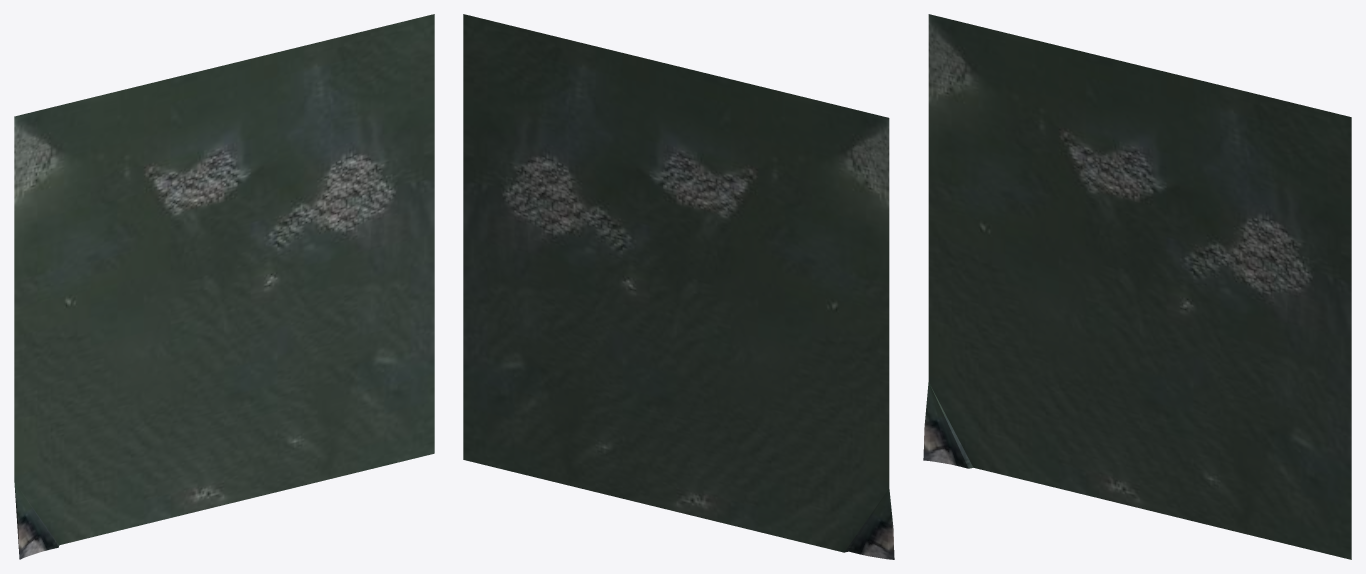
The model's file is Tile_+037_+018_L17_0002.glb.
3 views of the same model, side by side, from view 1: azimuth 30°, elevation 25°; view 2: azimuth 150°, elevation 25°; view 3: azimuth 330°, elevation 25° (orthographic).
Size of the model in its own units: 126 by 126 by 2.69.
Materials: 1 (1 with a texture image).
